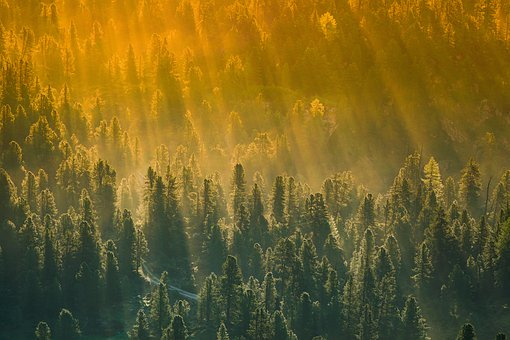forest: (4, 4, 507, 339)
tree: (9, 173, 155, 325), (131, 147, 277, 299), (360, 152, 506, 304), (222, 162, 368, 314)
